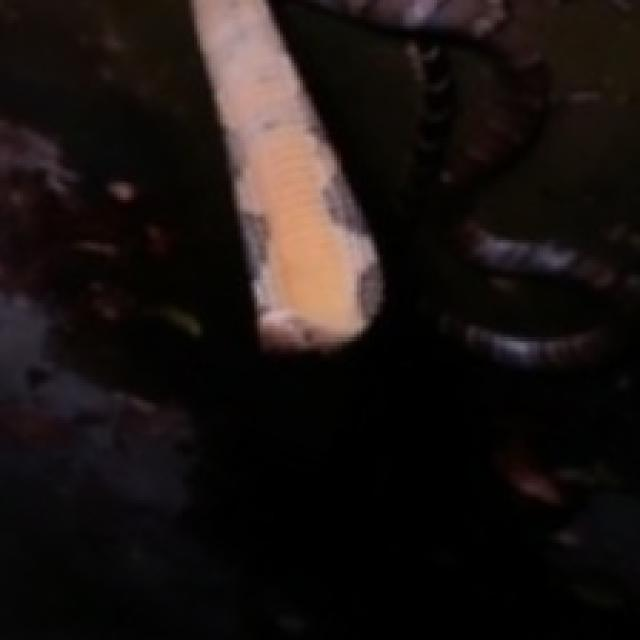king cobra: (193, 0, 384, 351), (301, 1, 549, 199), (454, 220, 616, 284), (444, 318, 576, 366)
